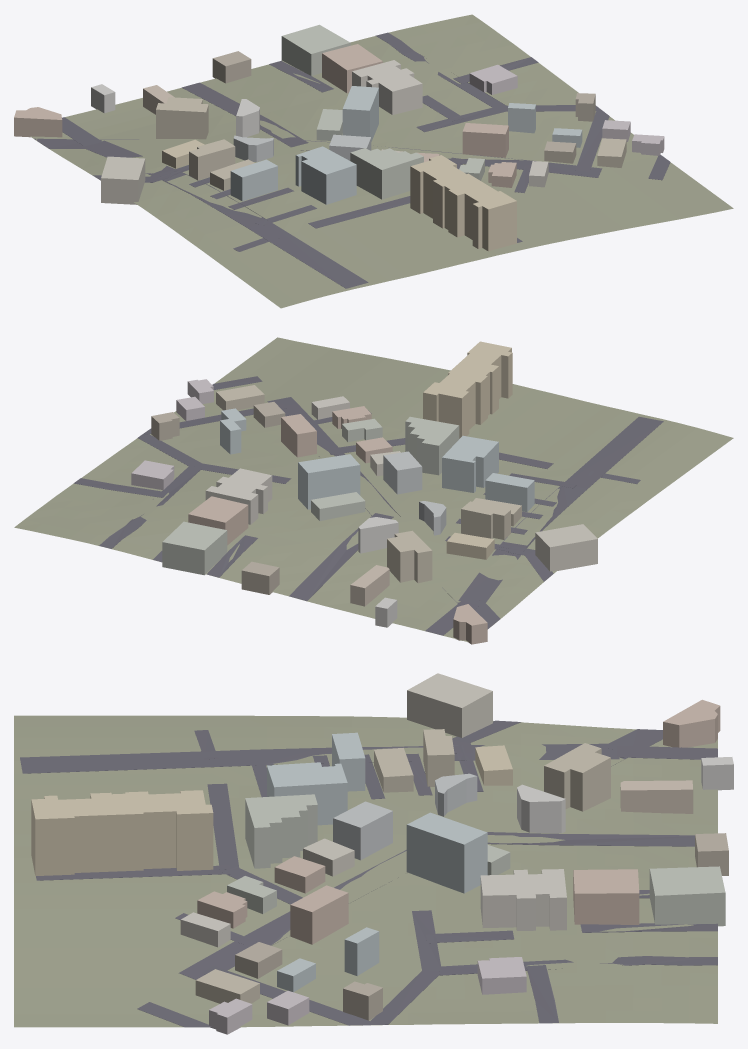
Rendered from chunk_6_9.glb.
3 renders of one model, top to bottom at view 1: azimuth 30°, elevation 25°; view 2: azimuth 150°, elevation 25°; view 3: azimuth 270°, elevation 25°, orthographic. The views are drawn at different scales.
Visible parts, largest first — view 1: geometry_35, geometry_5, geometry_48, geometry_18, geometry_11, geometry_12, geometry_24, geometry_22, geometry_14, geometry_28, geometry_3, geometry_15 (+29 smaller); view 2: geometry_35, geometry_5, geometry_48, geometry_24, geometry_18, geometry_28, geometry_14, geometry_11, geometry_12, geometry_22, geometry_3, geometry_16 (+30 smaller); view 3: geometry_35, geometry_5, geometry_28, geometry_48, geometry_12, geometry_11, geometry_24, geometry_14, geometry_3, geometry_22, geometry_18, geometry_30 (+42 smaller).
Boxes of the visible parts, x1=… form: geometry_35: x1=30, y1=14, x2=733, y2=308; geometry_5: x1=410, y1=155, x2=516, y2=251; geometry_48: x1=158, y1=170, x2=368, y2=288; geometry_18: x1=295, y1=146, x2=356, y2=204; geometry_11: x1=350, y1=148, x2=423, y2=199; geometry_12: x1=352, y1=60, x2=422, y2=114; geometry_24: x1=281, y1=24, x2=350, y2=75; geometry_22: x1=156, y1=97, x2=208, y2=139; geometry_14: x1=101, y1=156, x2=145, y2=204; geometry_28: x1=342, y1=86, x2=378, y2=141; geometry_3: x1=322, y1=44, x2=382, y2=93; geometry_15: x1=230, y1=159, x2=277, y2=201; geometry_35: x1=14, y1=337, x2=733, y2=642; geometry_5: x1=423, y1=341, x2=512, y2=438; geometry_48: x1=498, y1=416, x2=663, y2=551; geometry_24: x1=162, y1=521, x2=227, y2=575; geometry_18: x1=442, y1=435, x2=498, y2=492; geometry_28: x1=298, y1=454, x2=360, y2=509; geometry_14: x1=535, y1=524, x2=597, y2=571; geometry_11: x1=405, y1=416, x2=459, y2=475; geometry_12: x1=205, y1=468, x2=272, y2=524; geometry_22: x1=387, y1=530, x2=432, y2=583; geometry_3: x1=188, y1=496, x2=248, y2=545; geometry_16: x1=461, y1=501, x2=510, y2=539; geometry_35: x1=14, y1=715, x2=717, y2=1027; geometry_5: x1=31, y1=790, x2=213, y2=876; geometry_28: x1=406, y1=812, x2=487, y2=893; geometry_48: x1=20, y1=745, x2=465, y2=773; geometry_12: x1=480, y1=869, x2=566, y2=930; geometry_11: x1=245, y1=794, x2=317, y2=868; geometry_24: x1=649, y1=866, x2=725, y2=926; geometry_14: x1=407, y1=673, x2=492, y2=737; geometry_3: x1=573, y1=869, x2=639, y2=924; geometry_22: x1=544, y1=743, x2=610, y2=811; geometry_18: x1=267, y1=762, x2=347, y2=825; geometry_30: x1=290, y1=885, x2=348, y2=944.
Bounding box in the file's own units: 268 × 28.72 × 256.
